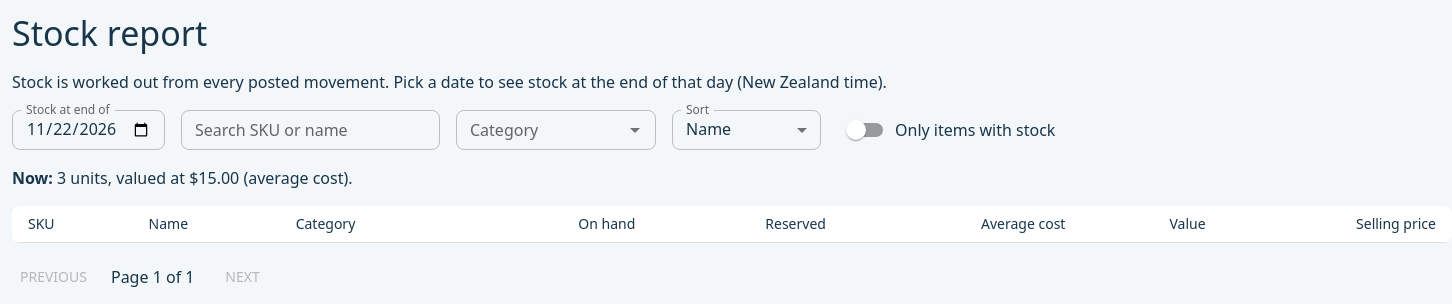
Scenario: requests stock at the end of a chosen date, or now for today
This screenshot has width=1452, height=304.
Check: the text "Now: 3 units, valued at $15.00 (average cost)." is shown, box top-left (12, 167), bottom-right (352, 189)
Step 1. Type "2026-03-31" into the date field labelled "Stock at end of" → (88, 130), box top-left (12, 110), bottom-right (165, 150)
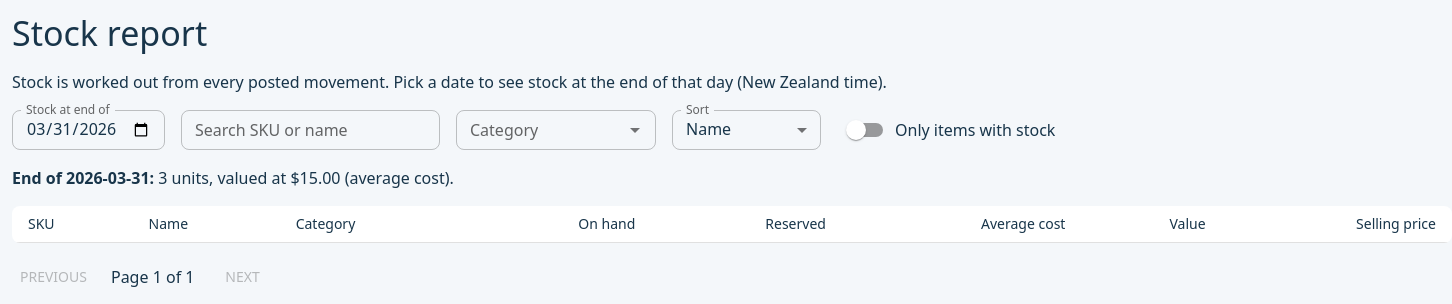
Check: the text "End of 2026-03-31:" is shown, box top-left (12, 167), bottom-right (154, 189)
